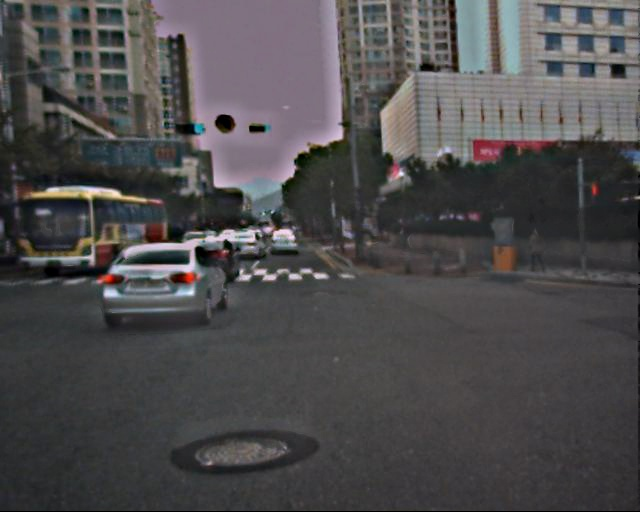person: (524, 227, 545, 277)
